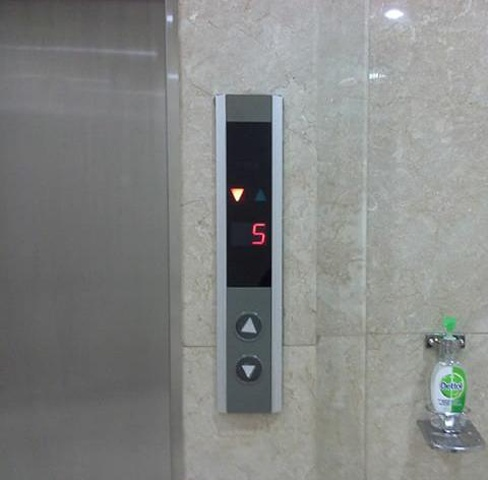down: (233, 354, 263, 383)
led: (225, 121, 271, 289)
up: (233, 311, 263, 342)
